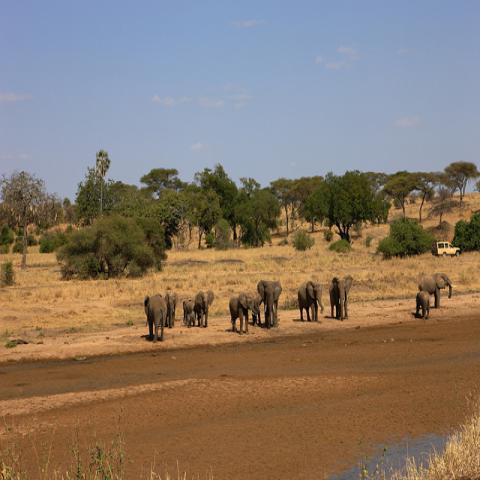car: (430, 240, 461, 257)
truck: (431, 240, 461, 258)
